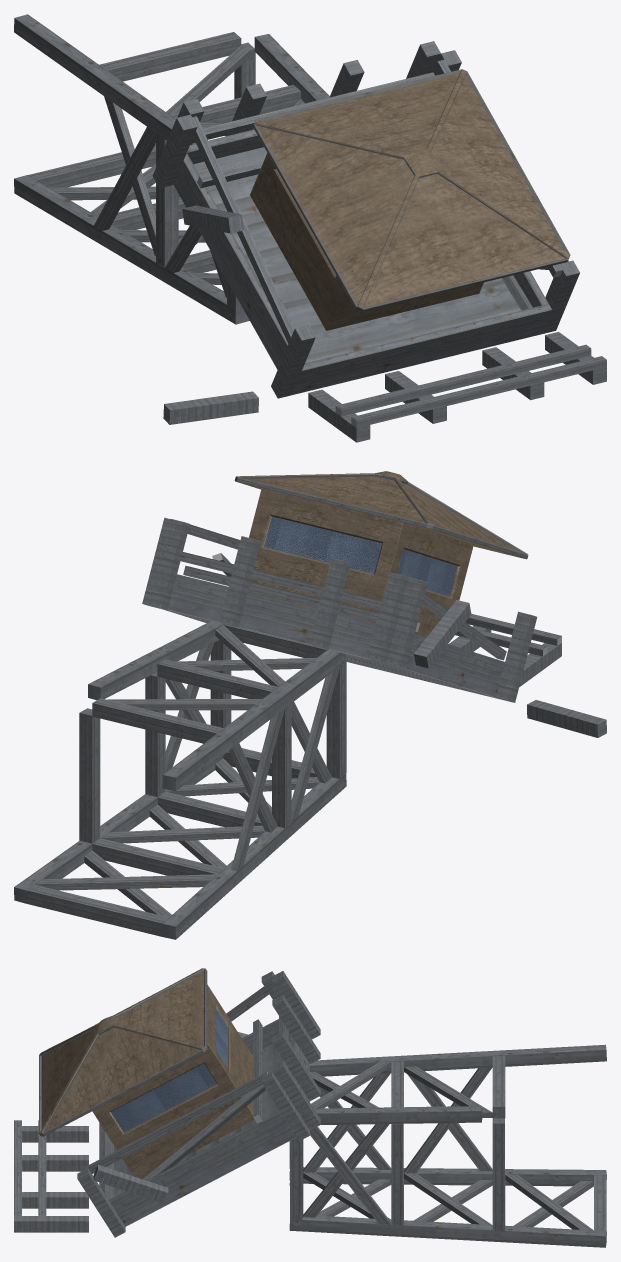
File: Watch Tower Destruida (1).fbx
3 views of the same model, one above another, from view 1: azimuth 30°, elevation 25°; view 2: azimuth 150°, elevation 25°; view 3: azimuth 270°, elevation 25° (orthographic). The views are drawn at different scales.
Visible parts, largest first — view 1: Chao2, Teto1, Parte_de_Baixo1_group4, Caban1; view 2: Parte_de_Baixo1_group4, Chao2, Caban1, Teto1; view 3: Parte_de_Baixo1_group4, Chao2, Teto1, Caban1.
Boxes of the visible parts, x1,y1,x2,y2 form: Chao2: (152, 41, 606, 442); Teto1: (253, 69, 570, 311); Parte_de_Baixo1_group4: (14, 14, 329, 324); Caban1: (250, 153, 483, 330); Parte_de_Baixo1_group4: (14, 621, 346, 939); Chao2: (142, 517, 606, 737); Caban1: (248, 488, 473, 637); Teto1: (234, 471, 528, 559); Parte_de_Baixo1_group4: (289, 1044, 606, 1247); Chao2: (14, 971, 320, 1237); Teto1: (39, 968, 207, 1136); Caban1: (92, 984, 254, 1178).
Size of the model in its own units: 27.46 by 18.28 by 47.39.
